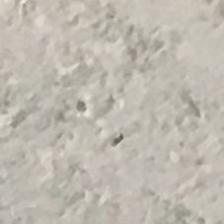Non_Crack: (16, 28, 201, 194)
